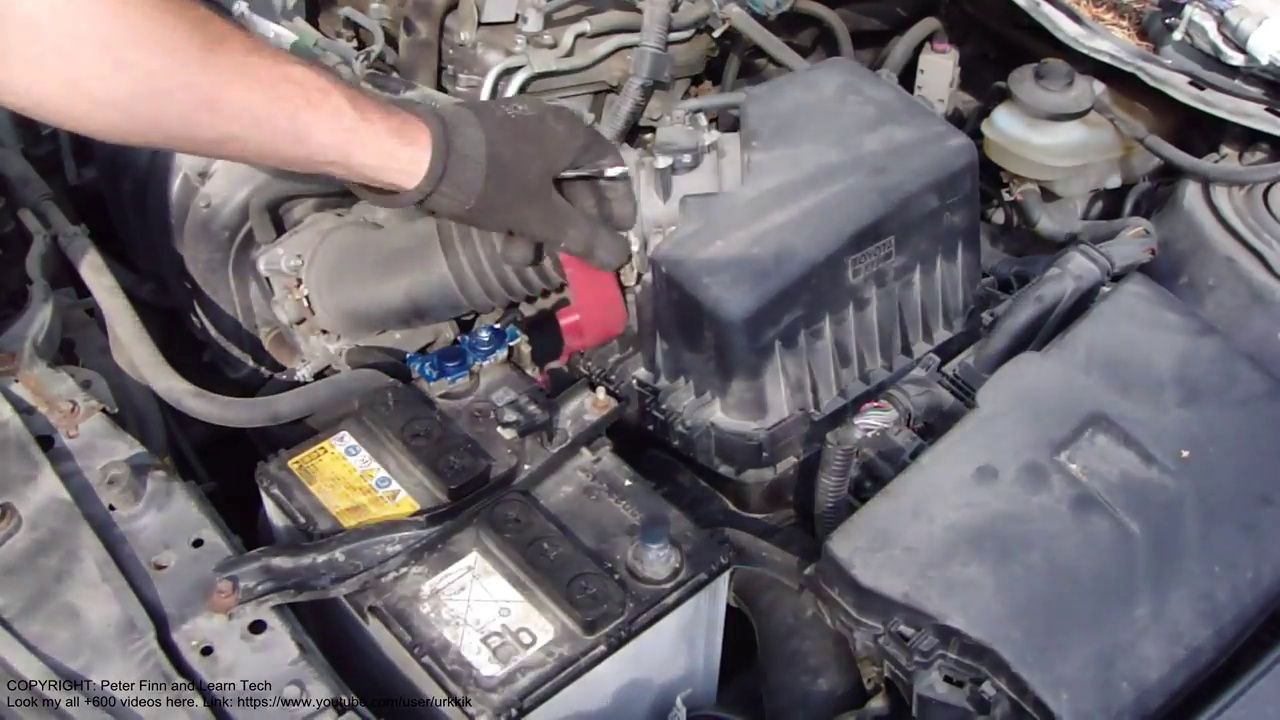battery: (244, 323, 722, 686)
neg_disconnected: (587, 492, 697, 602)
pos_connected: (368, 258, 635, 412)
pos_touched: (370, 107, 634, 421)
